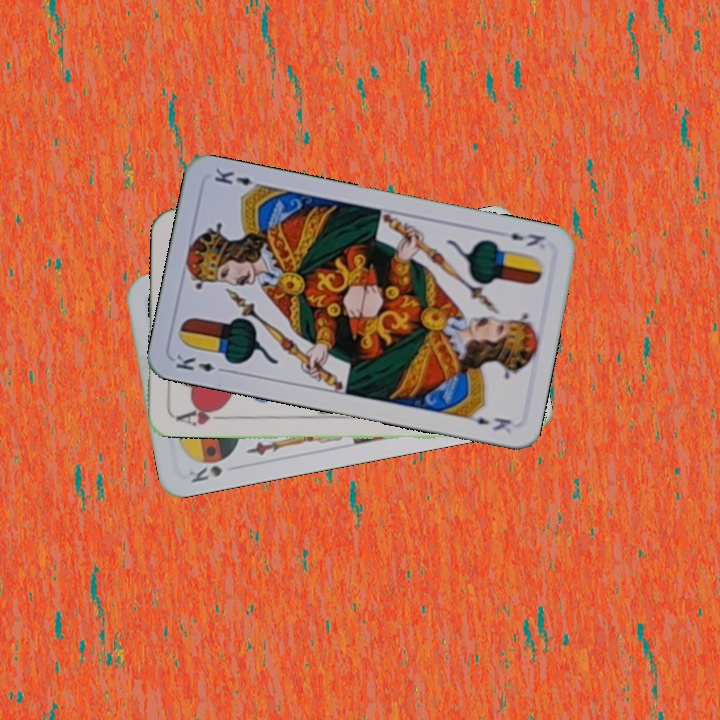EK: (171, 350, 230, 376), (507, 229, 548, 249)
HA: (171, 402, 230, 429)
SK: (184, 461, 225, 485)
